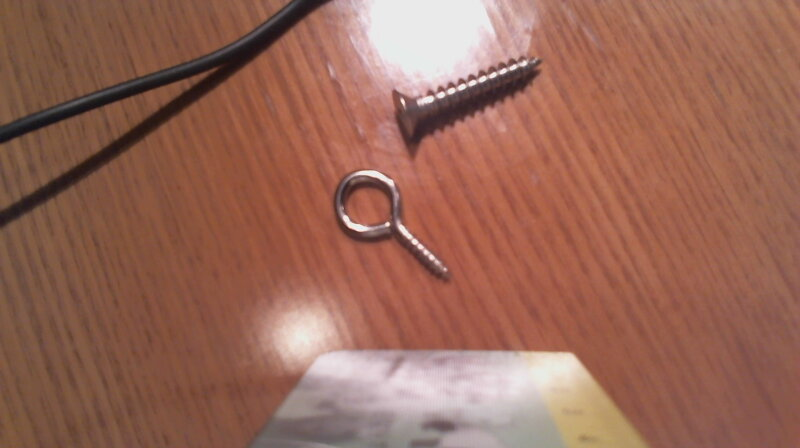O001: (331, 167, 459, 283)
S001: (388, 54, 543, 142)
